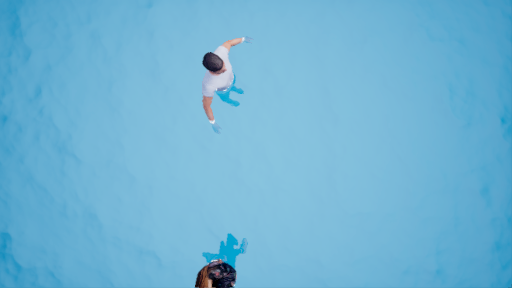person: (185, 36, 265, 132), (192, 223, 256, 288)
